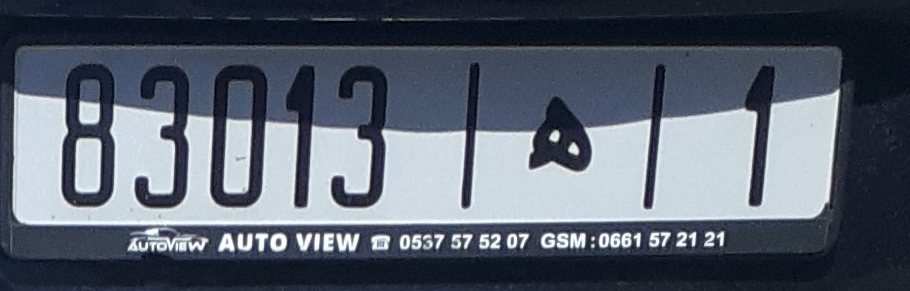0: (205, 51, 276, 208)
1: (271, 51, 333, 220), (727, 56, 784, 215)
3: (326, 62, 405, 215), (128, 54, 197, 209)
8: (54, 56, 123, 215)
h: (521, 86, 601, 193)
